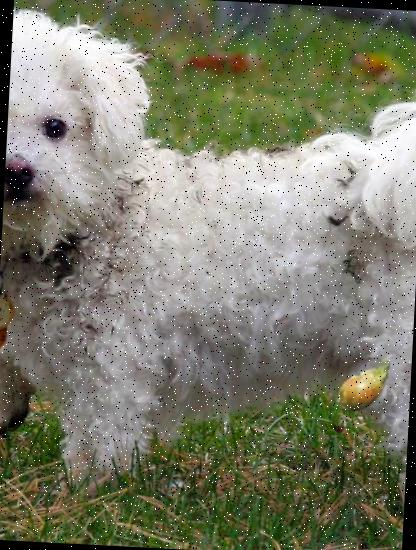Cactus: (333, 351, 403, 421)
